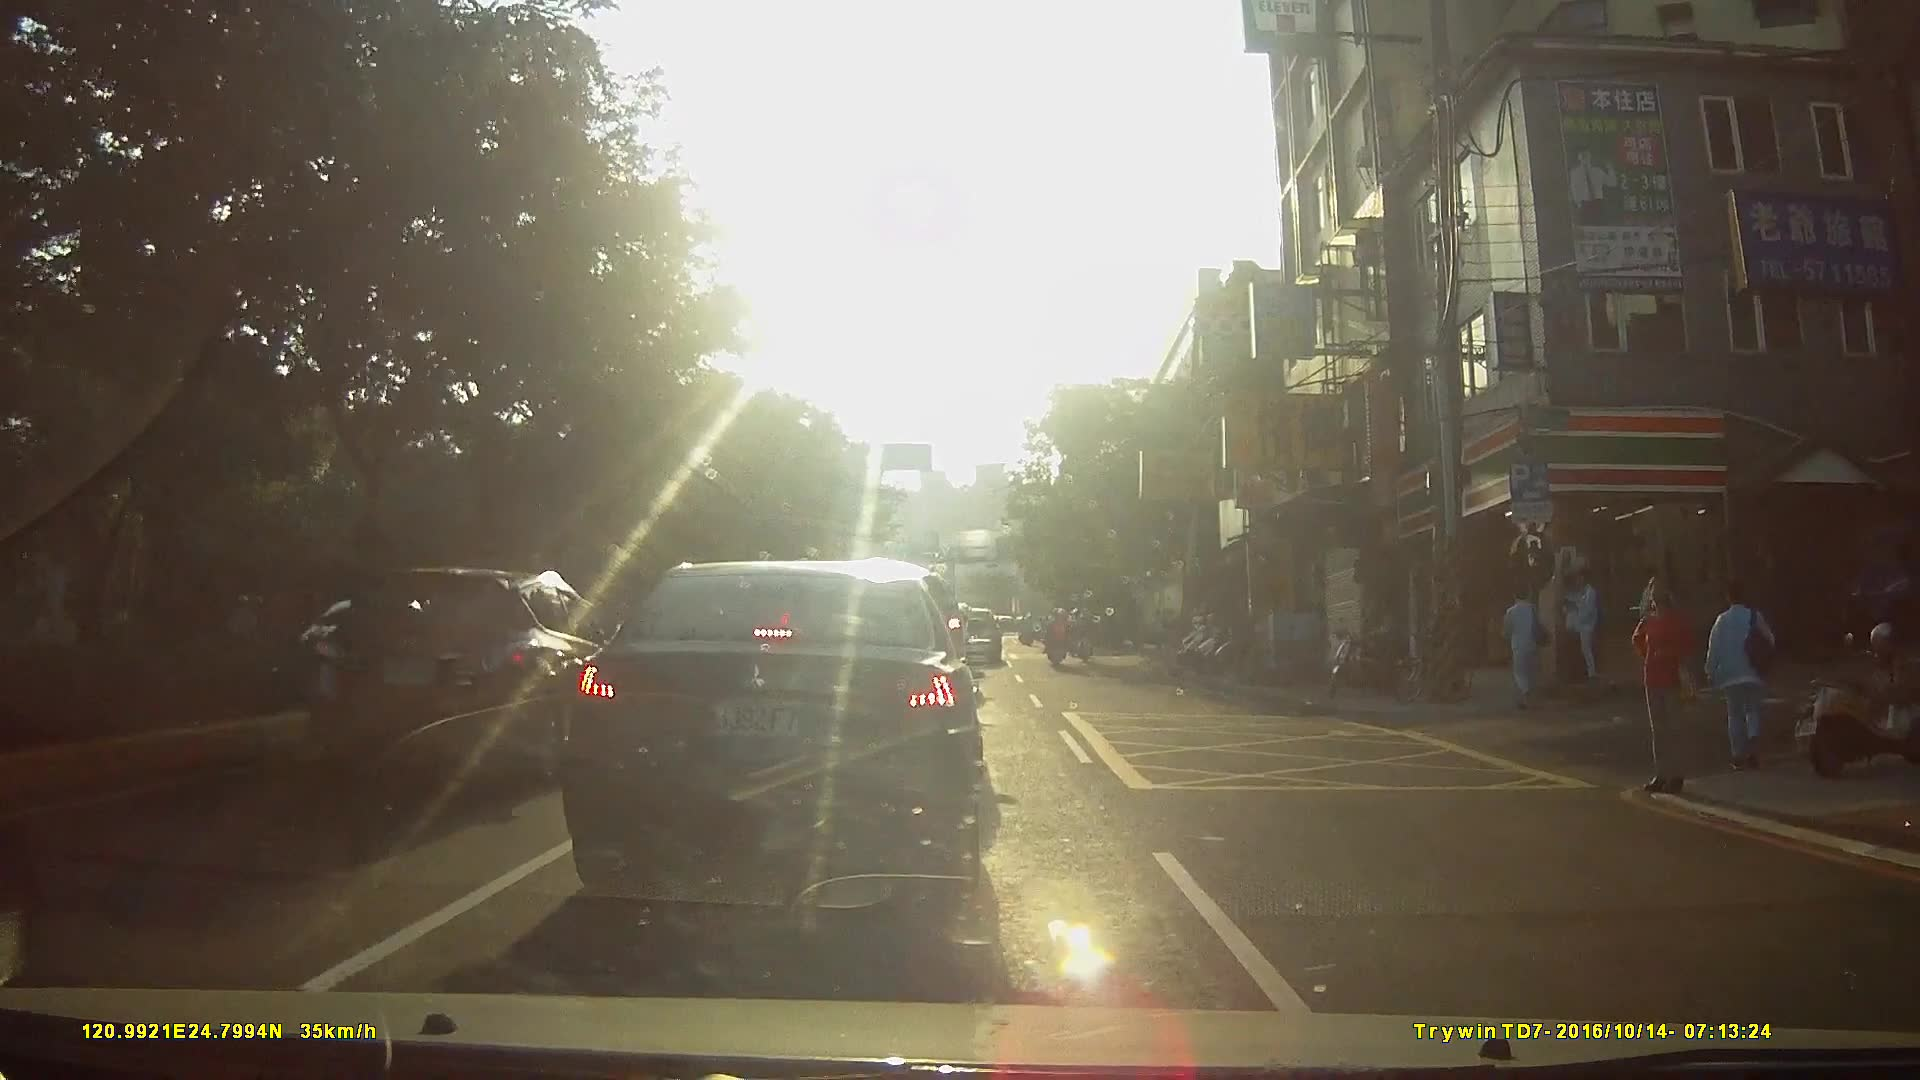pedestrian: (1625, 577, 1694, 793), (1702, 581, 1778, 768), (1497, 582, 1551, 714), (1560, 570, 1602, 682), (1558, 569, 1580, 687)
rider: (1042, 607, 1075, 671), (1066, 607, 1092, 660)
vehicle: (557, 559, 1006, 905), (300, 565, 657, 804)
